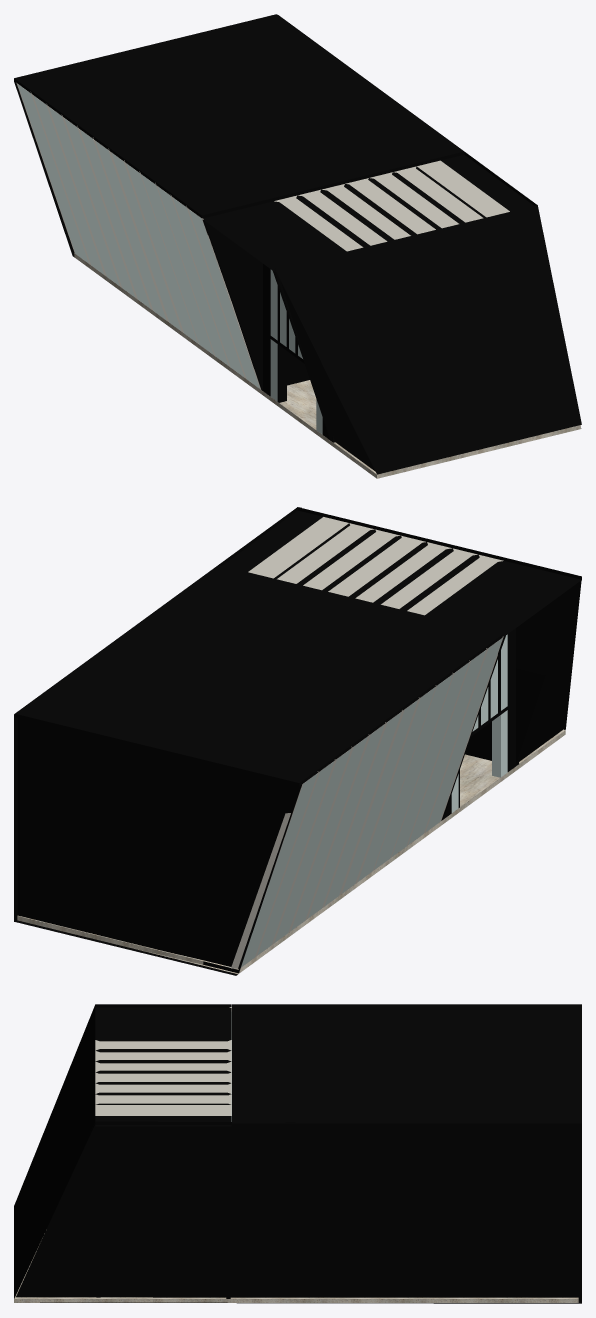
Rendered from MUSEO.fbx.
The picture shows the model from 3 angles, top to bottom: view 1: azimuth 30°, elevation 25°; view 2: azimuth 150°, elevation 25°; view 3: azimuth 270°, elevation 25°; orthographic projection. The views are drawn at different scales.
Parts seen in each view (by area): view 1: Plane.001, Plane.008, Cube.003, Plane.004, Plane, Puerta principal, Plane.009; view 2: Plane.001, Plane.002, Cube.003, Plane.006, Plane, Puerta principal, Plane.009; view 3: Plane.003, Plane.001, Plane.008, Plane, Plane.004, Plane.006.
Boxes of the visible parts, left/top/right/bottom form: Plane.001: left=14, top=14, right=536, bottom=271; Plane.008: left=275, top=205, right=581, bottom=474; Cube.003: left=16, top=83, right=260, bottom=389; Plane.004: left=202, top=219, right=309, bottom=390; Plane: left=74, top=253, right=580, bottom=478; Puerta principal: left=262, top=264, right=335, bottom=442; Plane.009: left=275, top=270, right=375, bottom=471; Plane.001: left=15, top=507, right=581, bottom=786; Plane.002: left=15, top=717, right=301, bottom=975; Cube.003: left=231, top=636, right=503, bottom=968; Plane.006: left=465, top=580, right=581, bottom=765; Plane: left=17, top=729, right=565, bottom=973; Puerta principal: left=443, top=628, right=518, bottom=819; Plane.009: left=519, top=576, right=580, bottom=761; Plane.003: left=16, top=1121, right=581, bottom=1303; Plane.001: left=95, top=1004, right=581, bottom=1126; Plane.008: left=14, top=1005, right=95, bottom=1298; Plane: left=14, top=1233, right=578, bottom=1302; Plane.004: left=226, top=1126, right=230, bottom=1298; Plane.006: left=96, top=1126, right=100, bottom=1297.
Bounding box in the file's own units: 2449 × 1708 × 4892.
